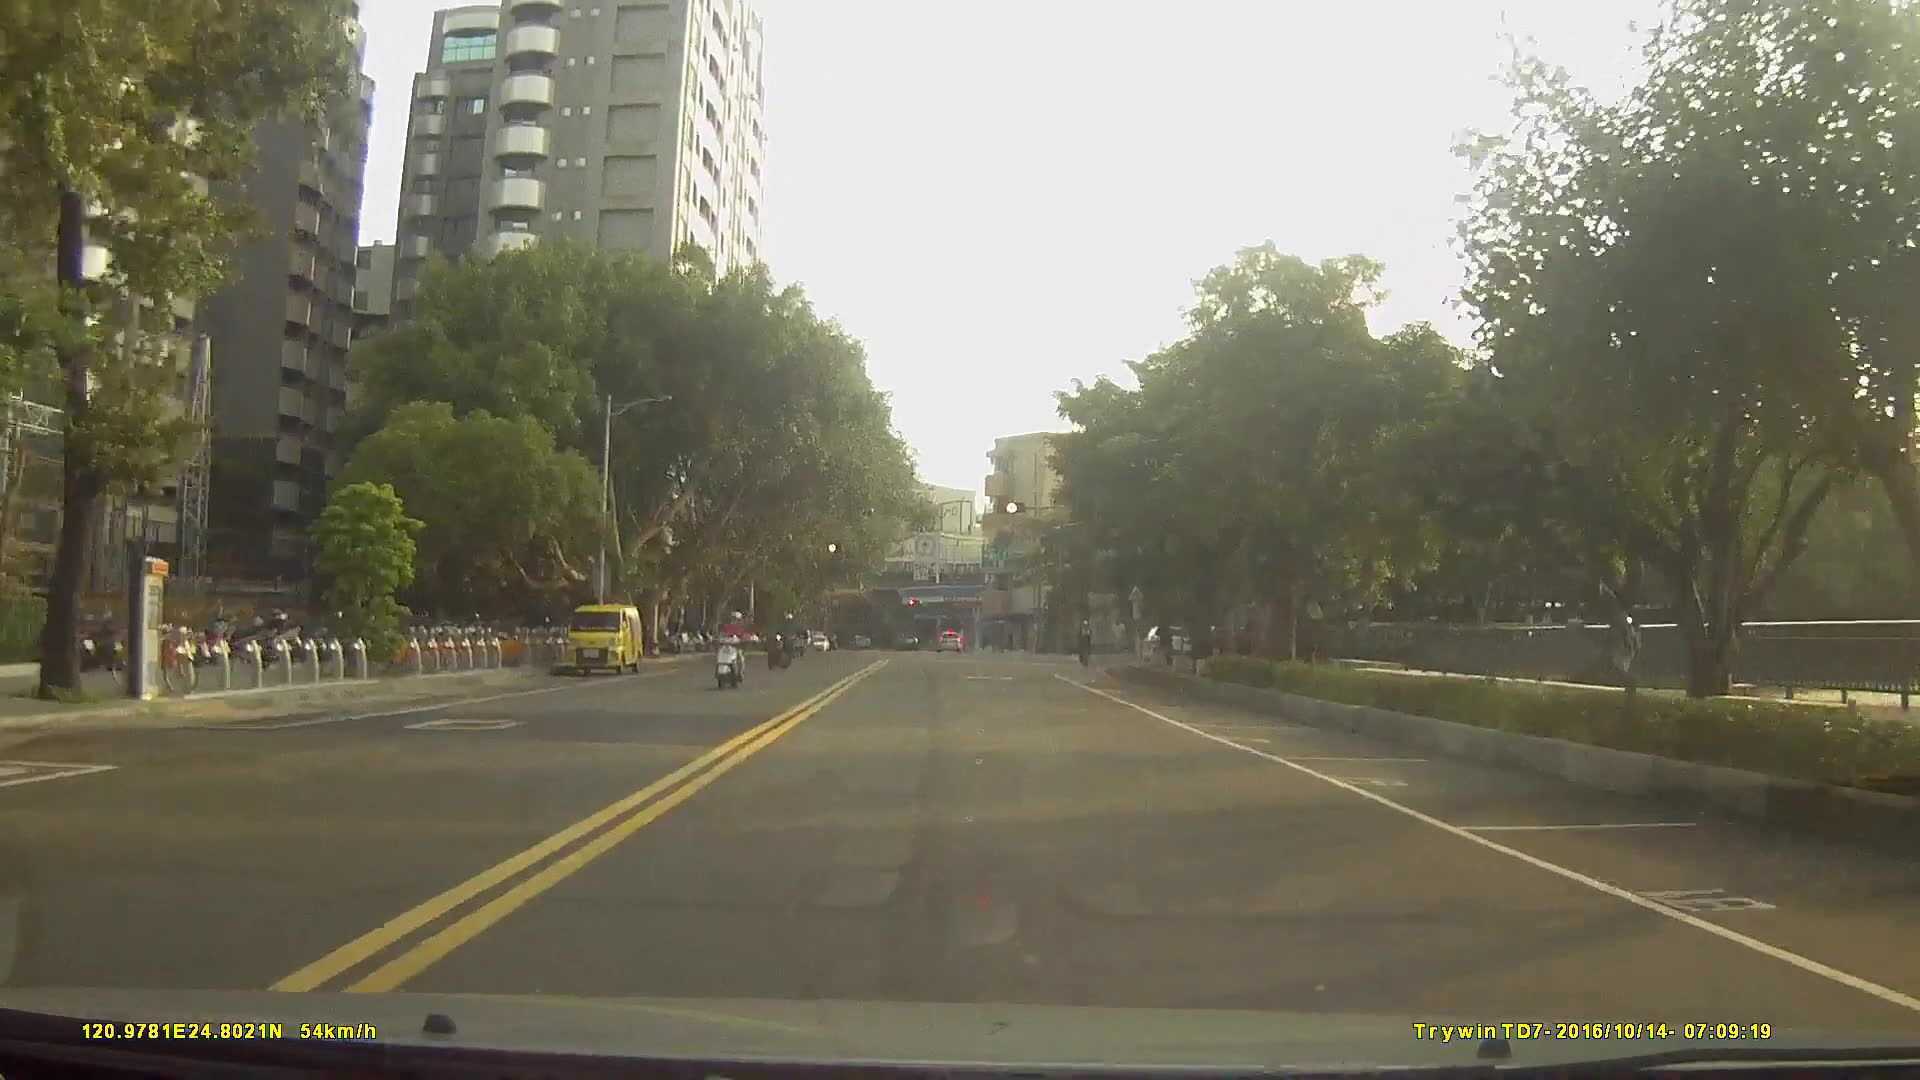pedestrian: (1110, 614, 1130, 657)
rider: (712, 609, 755, 692), (766, 610, 799, 671), (1075, 619, 1097, 671)
vehicle: (934, 626, 963, 652)
